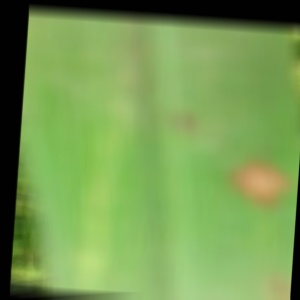Brown_Spot: (221, 147, 297, 232)
